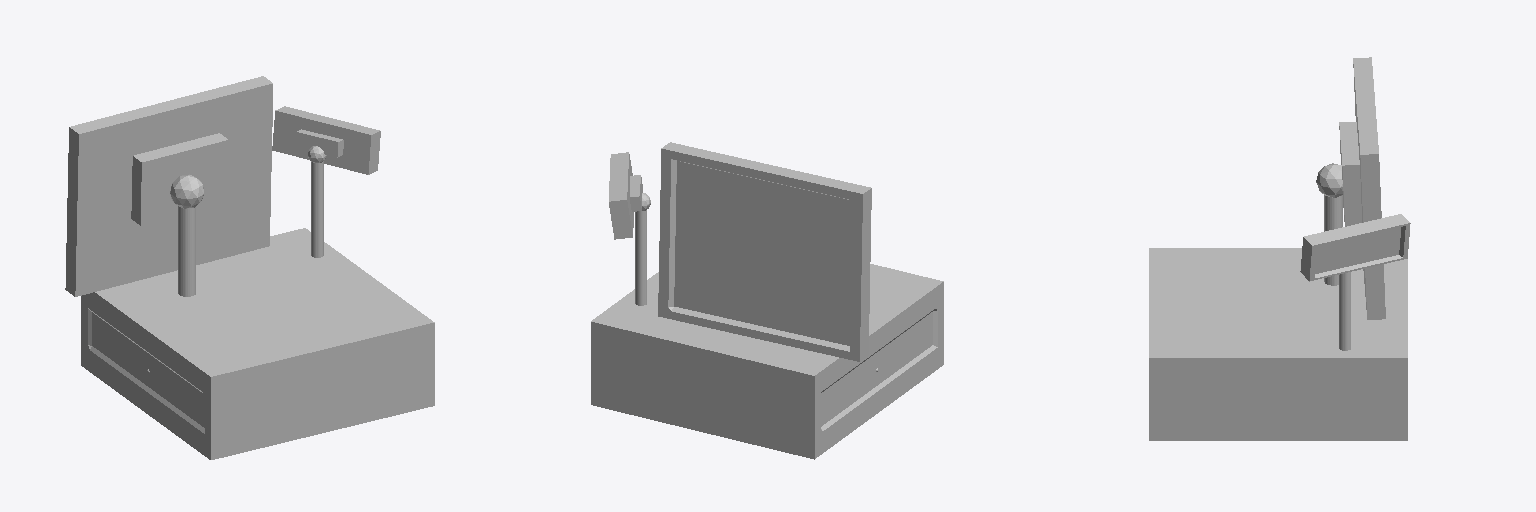
File: Computer.obj
3 views of the same model, side by side, from view 1: azimuth 30°, elevation 25°; view 2: azimuth 150°, elevation 25°; view 3: azimuth 270°, elevation 25° (orthographic).
Parts seen in each view (by area): view 1: Cube.010, Cube.011, Cube.012, Cube.014, Cylinder, Cylinder.001, Icosphere, Cube.015; view 2: Cube.010, Cube.011, Cube.014, Cylinder.001; view 3: Cube.010, Cube.014, Cube.011, Cube.012, Cylinder.001, Cylinder, Icosphere.
Part boxes in pixels (x1,y1,x2,y2): Cube.010: (81,228,434,459); Cube.011: (65,76,272,296); Cube.012: (131,133,228,225); Cube.014: (272,106,380,174); Cylinder: (178,206,195,296); Cylinder.001: (311,161,323,257); Icosphere: (170,174,203,208); Cube.015: (295,129,343,157); Cube.010: (591,264,943,459); Cube.011: (658,142,871,361); Cube.014: (609,152,633,239); Cylinder.001: (635,210,646,305); Cube.010: (1149,248,1407,440); Cube.014: (1300,214,1410,281); Cube.011: (1353,57,1385,319); Cube.012: (1339,122,1361,226); Cylinder.001: (1339,272,1350,350); Cylinder: (1324,195,1342,285); Icosphere: (1316,163,1342,197).
Size of the model in its own units: 4.76 by 4.18 by 3.81.